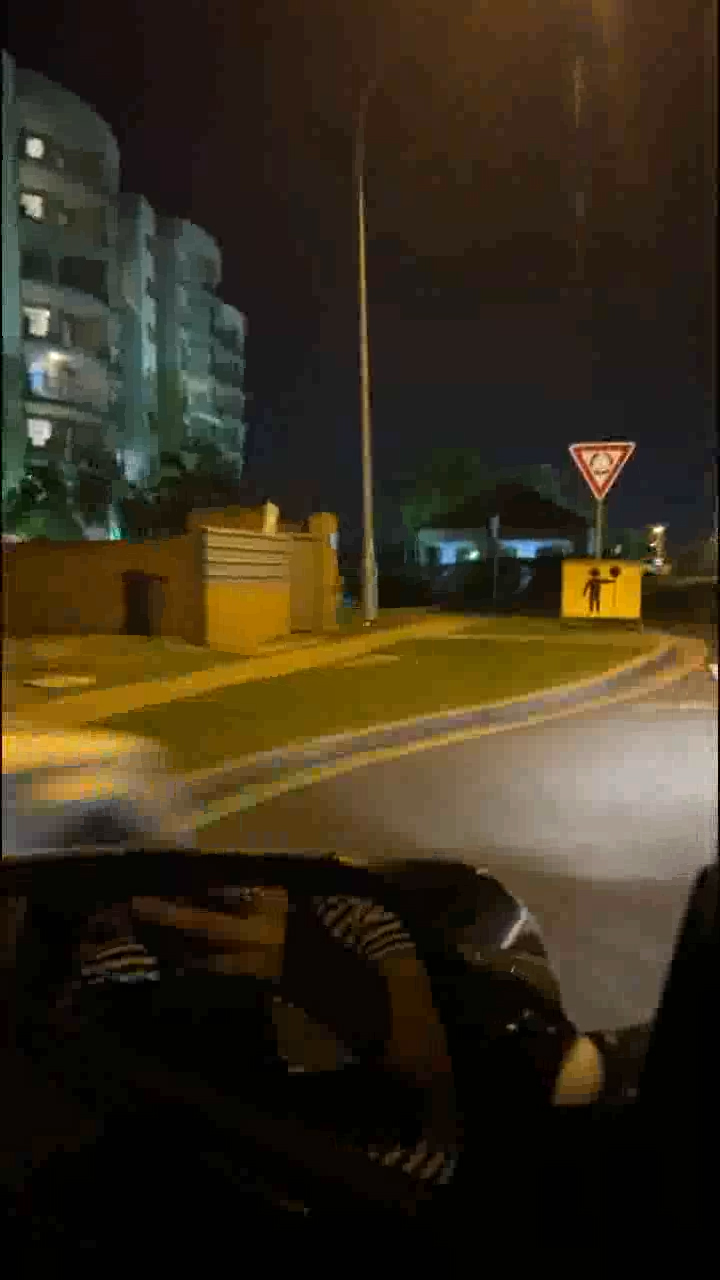prepare to stop board: (558, 560, 643, 620)
